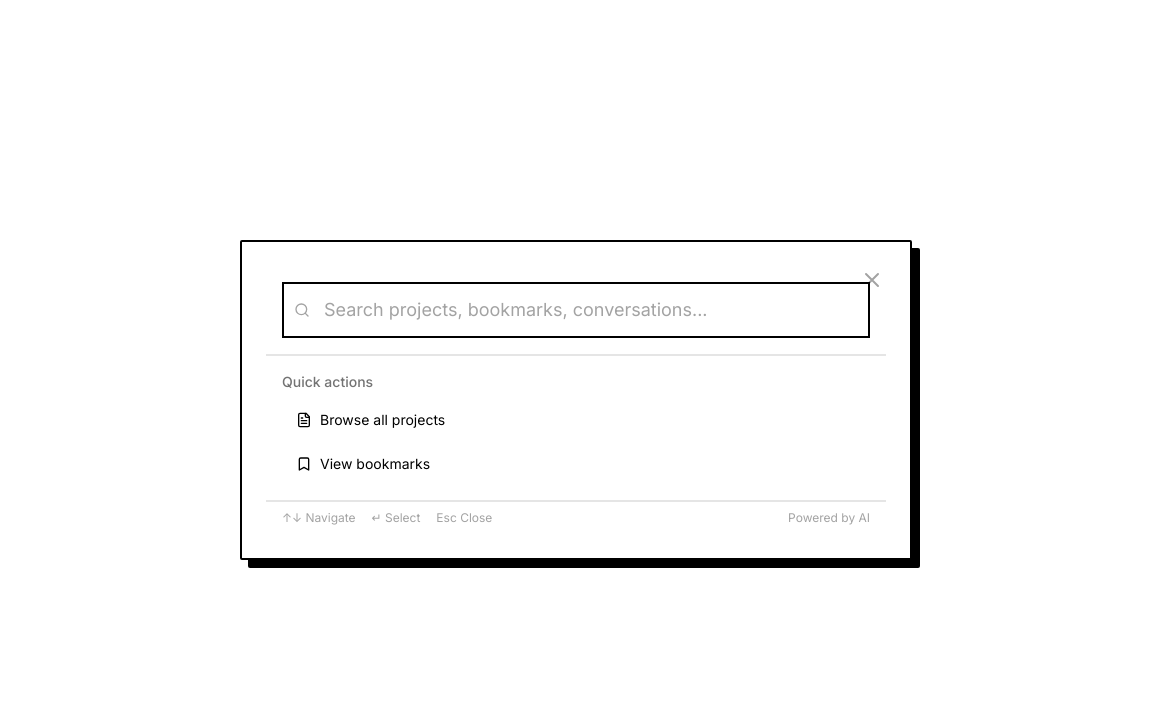
Scenario: GlobalSearchModal › shows search results when typing
In the field with placeholder "Search projects, bookmarks, conversations...": (576, 310) [282, 282, 870, 338], type "AI"
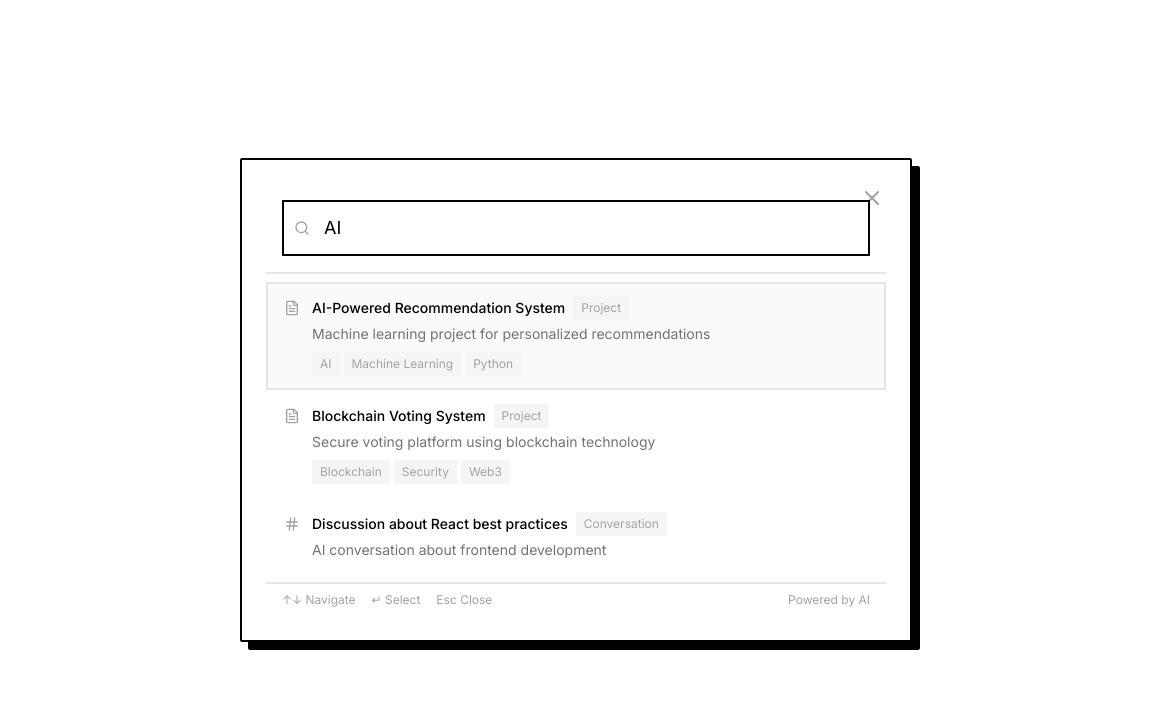
Expected: the text "AI-Powered Recommendation System" is shown, [312, 298, 565, 318]
